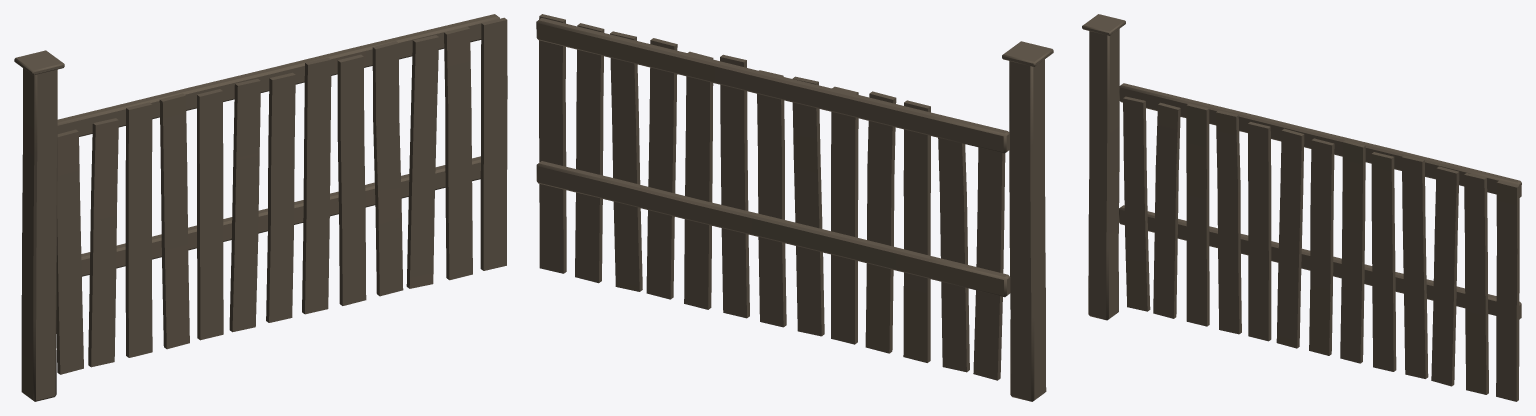
Rendered from zaun.glb.
The picture shows the model from 3 angles, left to right: view 1: azimuth 30°, elevation 25°; view 2: azimuth 150°, elevation 25°; view 3: azimuth 330°, elevation 25°; orthographic projection. The views are drawn at different scales.
Parts seen in each view (by area): view 1: zaun; view 2: zaun; view 3: zaun.
Boxes of the visible parts, box(x1,y1,x2,y2) form: zaun: box(14, 14, 507, 401); zaun: box(536, 14, 1053, 401); zaun: box(1082, 14, 1521, 401).
Size of the model in its own units: 2.08 by 1.37 by 0.162.
